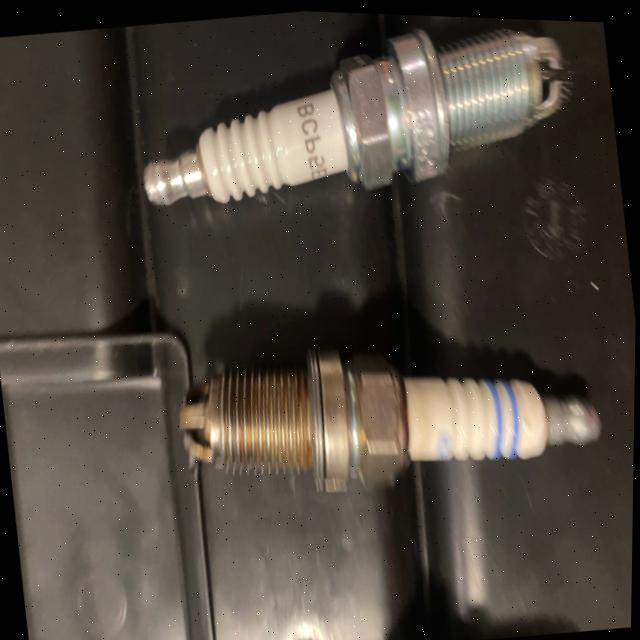spark-plug: (167, 299, 632, 556), (104, 3, 584, 242)
